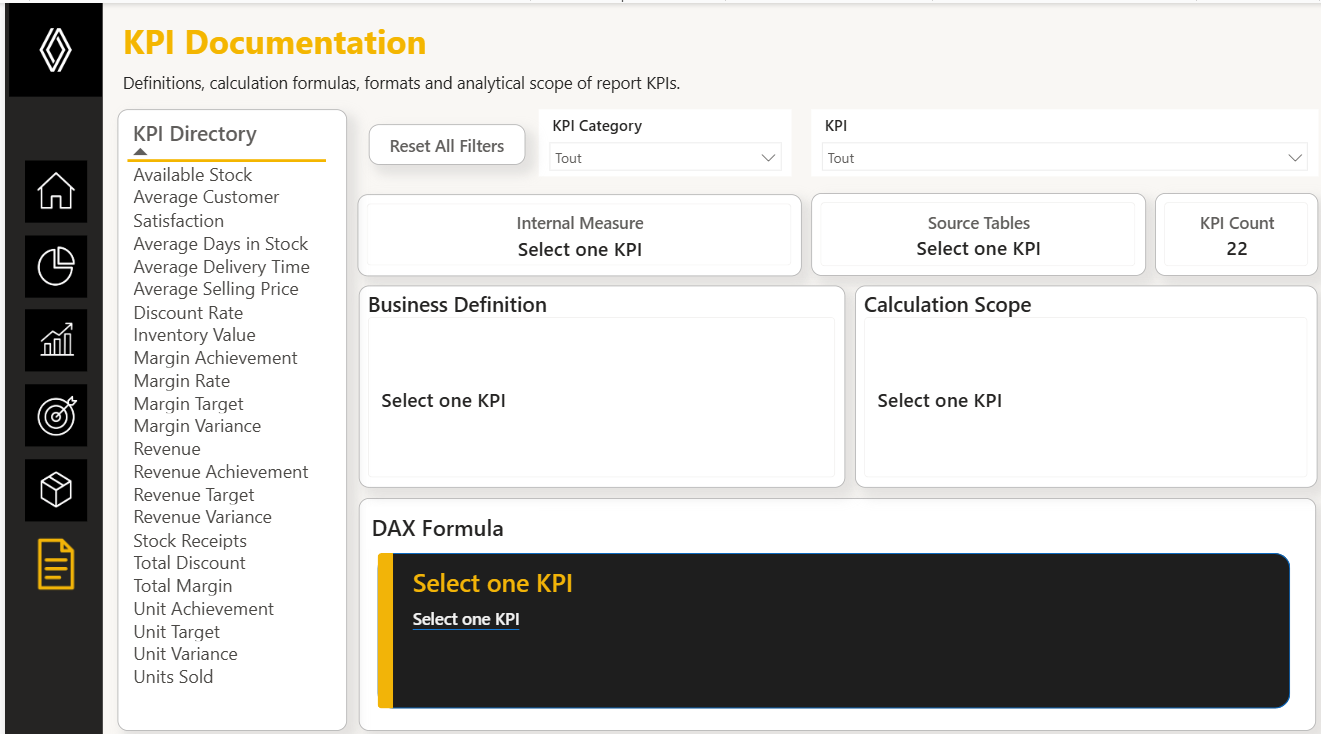

The dashboard page shown, as its layout file describes it:
{"tool":"powerbi","page":{"name":"KPI Documentation","canvas":[1280,720],"ordinal":5},"visuals":[{"type":"image","box":[18.8,152.6,60,60],"z":0,"group":"g1"},{"type":"shape","box":[342,478,924.3,225],"z":0},{"type":"shape","box":[0,0,94.5,720],"z":1000},{"type":"image","box":[18.8,224.6,60,60],"z":1000,"group":"g1"},{"type":"textbox","box":[108.6,9.7,386.1,55.5],"z":2000},{"type":"image","box":[18.8,296.5,60,60],"z":2000,"group":"g1"},{"type":"image","box":[0,0,97.5,90.2],"z":3000},{"type":"image","box":[18.8,368.5,60,60],"z":3000,"group":"g1"},{"type":"textbox","box":[108.8,60,631.2,33.8],"z":4000},{"type":"image","box":[18.8,440.4,60,60],"z":4000,"group":"g1"},{"type":"slicer","fields":{"Values":["KPI Selector.KPI Category"]},"box":[514.9,103,244.1,64.8],"z":5000},{"type":"image","box":[19.1,512.4,59.8,59.8],"z":5000,"group":"g1"},{"type":"slicer","fields":{"Values":["KPI Selector.KPI"]},"box":[778.1,103,489.5,64.8],"z":6000},{"type":"cardVisual","fields":{"Data":["Mes mesures.Doc Internal Measure"]},"box":[340.7,184.3,428.4,78.8],"z":7000},{"type":"cardVisual","fields":{"Data":["Mes mesures.Doc Source Tables"]},"box":[778.1,183.1,322.9,80.1],"z":8000},{"type":"cardVisual","fields":{"Data":["Mes mesures.Documentation KPI Count"]},"box":[1109.9,183.1,157.6,80.1],"z":9000},{"type":"cardVisual","title":"Business Definition","fields":{"Data":["Mes mesures.Doc Business Definition"]},"box":[341.2,272.3,469.5,194.8],"z":10000},{"type":"cardVisual","title":"Calculation Scope","fields":{"Data":["Mes mesures.Doc Calculation Scope"]},"box":[820.4,272.3,446.5,194.8],"z":11000},{"type":"tableEx","fields":{"Values":["KPI Documentation.KPI"]},"box":[108.1,103,221.2,600.1],"z":12000},{"type":"textbox","box":[349,486,166.5,40.7],"z":13000},{"type":"shape","box":[359.8,531.4,881.1,150],"z":14000},{"type":"shape","box":[359.8,531.4,15.3,150],"z":15000},{"type":"cardVisual","fields":{"Data":["Mes mesures.Doc DAX Formula Header"]},"box":[389,537.8,448.8,40.7],"z":16000},{"type":"textbox","box":[389,578.5,836.6,95.4],"z":17000},{"type":"actionButton","box":[351.4,116.7,151.3,39.4],"z":18000},{"type":"group","id":"g1","title":"Groupe 1","box":[18.8,152.6,60,419.5],"z":18001}]}

Visuals, with their boxes on the page's 1280x720 design canvas (x1, y1, x2, y2). These are canvas units, not pixel positions in the 1321x734 screenshot, which may show the page scaled, cropped or inside an application window:
image: rect(19, 153, 79, 213)
shape: rect(342, 478, 1266, 703)
shape: rect(0, 0, 94, 720)
image: rect(19, 225, 79, 285)
textbox: rect(109, 10, 495, 65)
image: rect(19, 296, 79, 356)
image: rect(0, 0, 98, 90)
image: rect(19, 368, 79, 428)
textbox: rect(109, 60, 740, 94)
image: rect(19, 440, 79, 500)
slicer - KPI Selector.KPI Category: rect(515, 103, 759, 168)
image: rect(19, 512, 79, 572)
slicer - KPI Selector.KPI: rect(778, 103, 1268, 168)
cardVisual - Mes mesures.Doc Internal Measure: rect(341, 184, 769, 263)
cardVisual - Mes mesures.Doc Source Tables: rect(778, 183, 1101, 263)
cardVisual - Mes mesures.Documentation KPI Count: rect(1110, 183, 1268, 263)
"Business Definition" cardVisual: rect(341, 272, 811, 467)
"Calculation Scope" cardVisual: rect(820, 272, 1267, 467)
tableEx - KPI Documentation.KPI: rect(108, 103, 329, 703)
textbox: rect(349, 486, 516, 527)
shape: rect(360, 531, 1241, 681)
shape: rect(360, 531, 375, 681)
cardVisual - Mes mesures.Doc DAX Formula Header: rect(389, 538, 838, 578)
textbox: rect(389, 578, 1226, 674)
actionButton: rect(351, 117, 503, 156)
"Groupe 1" group: rect(19, 153, 79, 572)
